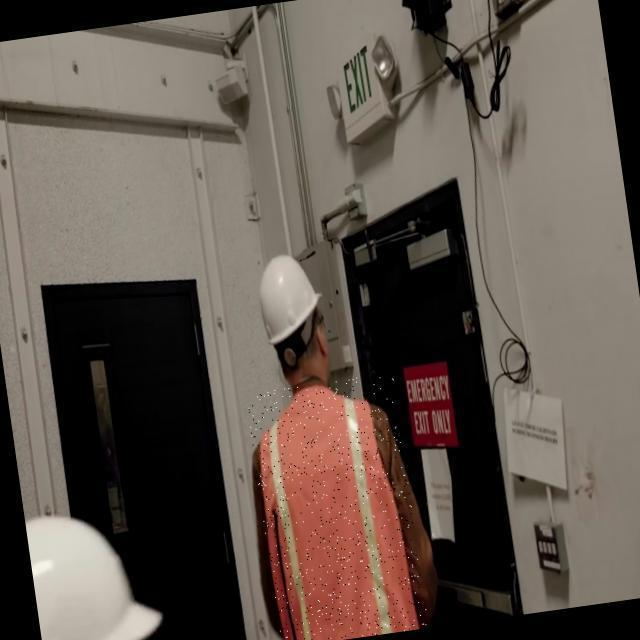helmet: (14, 494, 179, 640), (261, 249, 334, 348)
vest: (245, 372, 428, 640)
